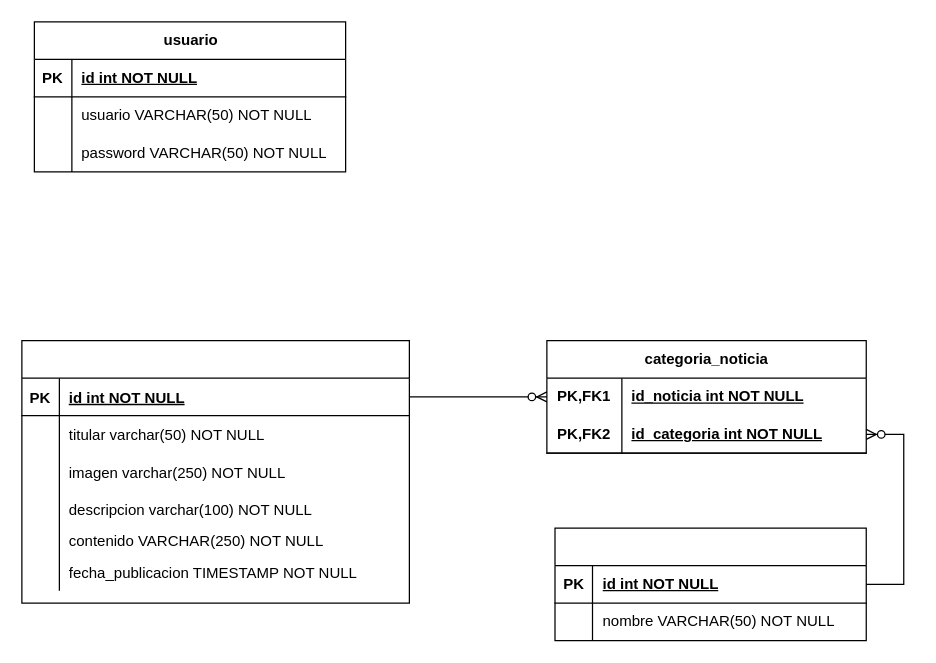
Some shapes in this 936 by 663 pixel diagram are drawn without their labels. The shapes that lost their labels are listed below. From the top down, each one's box as (x1, y1, x2, y2) in pixels, then its label:
(21, 339, 409, 603): noticia
(554, 527, 866, 641): categoria
